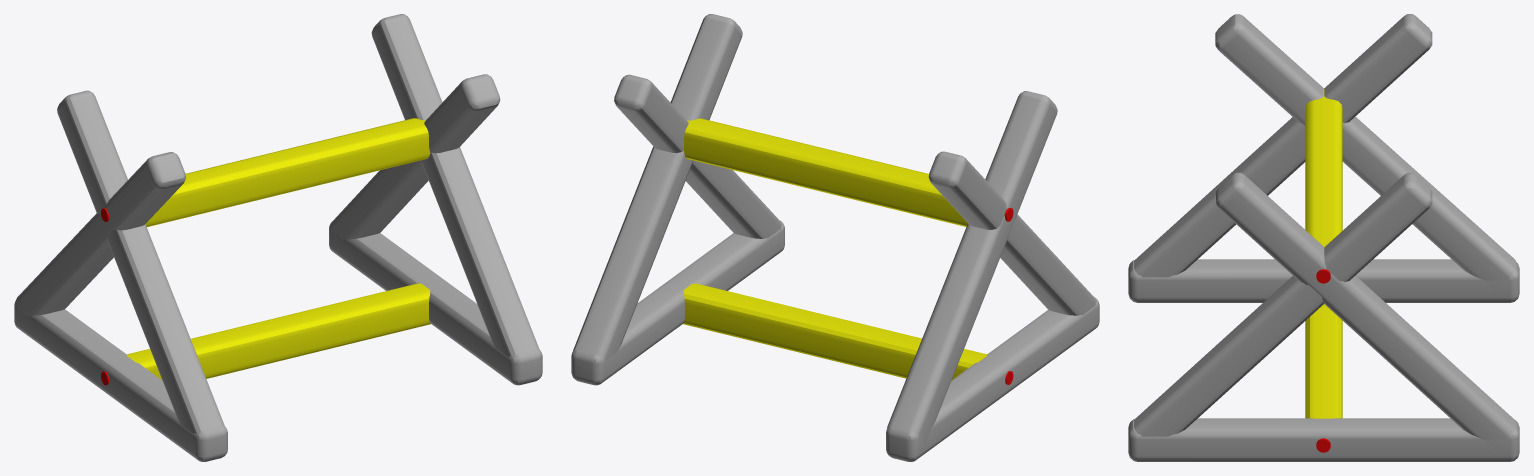
The model's file is ObstacleTest.fbx.
3 views of the same model, side by side, from view 1: azimuth 30°, elevation 25°; view 2: azimuth 150°, elevation 25°; view 3: azimuth 270°, elevation 25° (orthographic). The views are drawn at different scales.
Visible parts, largest first — view 1: polySurface2, polySurface4, polySurface5, polySurface3, polySurface7, polySurface8, polySurface6; view 2: polySurface2, polySurface7, polySurface6, polySurface3, polySurface8, polySurface4, polySurface5; view 3: polySurface6, polySurface8, polySurface5, polySurface7, polySurface4, polySurface3, polySurface2.
Part boxes in pixels (x1,y1,x2,y2): polySurface2: (126, 118, 430, 380); polySurface4: (57, 90, 224, 433); polySurface5: (371, 14, 539, 356); polySurface3: (14, 302, 227, 461); polySurface7: (15, 152, 185, 318); polySurface8: (329, 222, 542, 385); polySurface6: (330, 74, 500, 245); polySurface2: (683, 118, 987, 379); polySurface7: (887, 91, 1057, 443); polySurface6: (573, 14, 742, 360); polySurface3: (886, 297, 1099, 461); polySurface8: (571, 220, 784, 385); polySurface4: (928, 151, 1096, 315); polySurface5: (614, 74, 781, 238); polySurface6: (1216, 172, 1514, 449); polySurface8: (1128, 418, 1519, 461); polySurface5: (1134, 173, 1432, 436); polySurface7: (1215, 14, 1515, 290); polySurface4: (1134, 14, 1432, 277); polySurface3: (1128, 259, 1519, 302); polySurface2: (1305, 89, 1342, 418).
Bounding box in the file's own units: 222 × 164 × 208.
